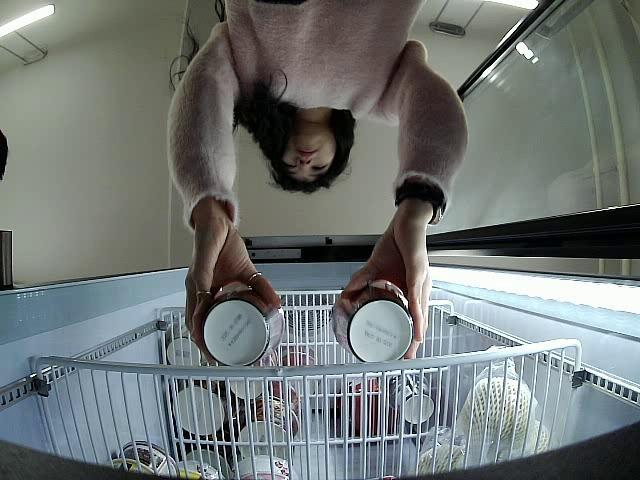02_shinRamen_S: (197, 284, 283, 366), (330, 282, 413, 363)
